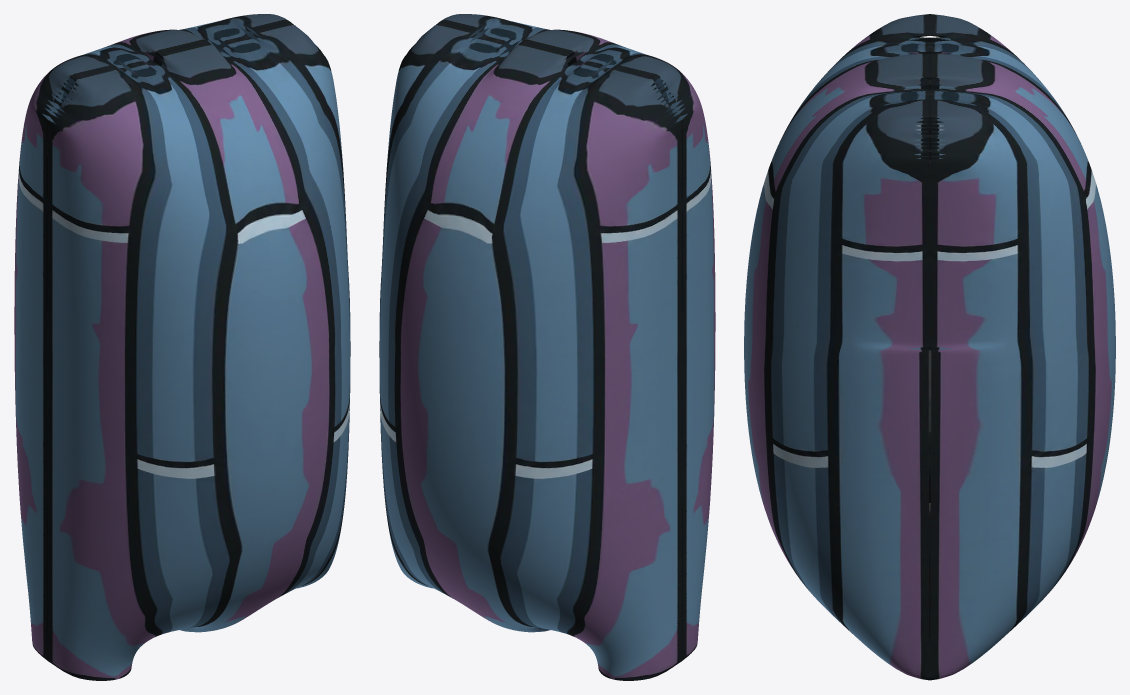
File: coolant_tube_bank.glb
The picture shows the model from 3 angles, left to right: view 1: azimuth 30°, elevation 25°; view 2: azimuth 150°, elevation 25°; view 3: azimuth 270°, elevation 25°; orthographic projection.
Parts seen in each view (by area): view 1: coolant_tube_bank; view 2: coolant_tube_bank; view 3: coolant_tube_bank.
Part boxes in pixels (x1=…): coolant_tube_bank: x1=14, y1=14, x2=350, y2=680; coolant_tube_bank: x1=379, y1=14, x2=715, y2=680; coolant_tube_bank: x1=744, y1=14, x2=1115, y2=680.
Size of the model in its own units: 0.9777 by 2.02 by 1.17.
Materials: 1 (1 with a texture image).
